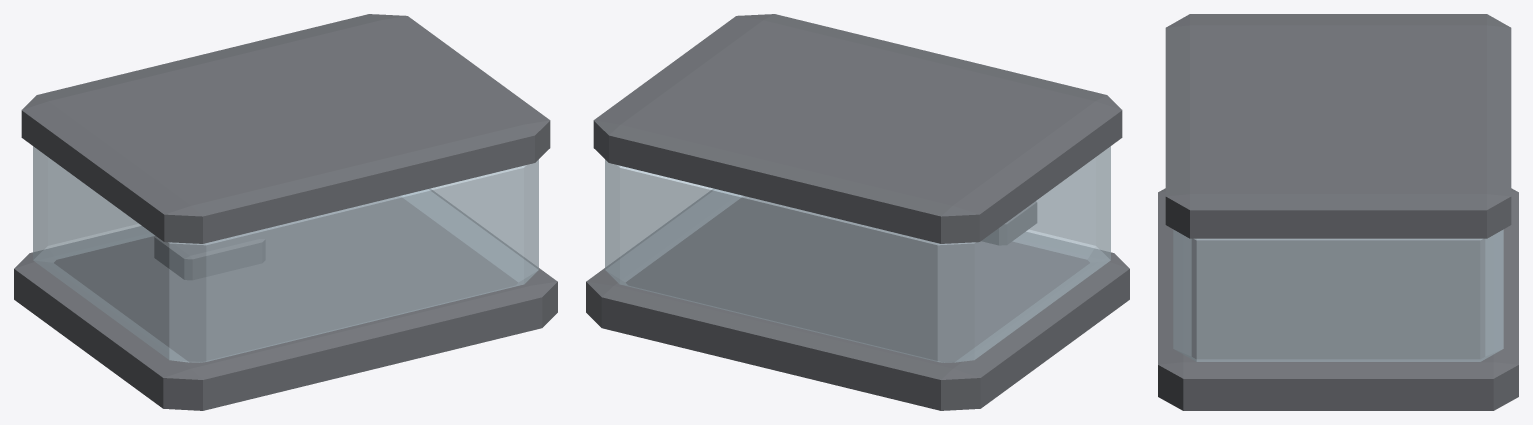
The model's file is b11_glazed_garden_cold_frame.glb.
The picture shows the model from 3 angles, left to right: view 1: azimuth 30°, elevation 25°; view 2: azimuth 150°, elevation 25°; view 3: azimuth 270°, elevation 25°; orthographic projection. The views are drawn at different scales.
Parts seen in each view (by area): view 1: b11_glazed_garden_cold_frame; view 2: b11_glazed_garden_cold_frame; view 3: b11_glazed_garden_cold_frame.
Boxes of the visible parts, bbox=[...] form: b11_glazed_garden_cold_frame: bbox=[14, 14, 557, 410]; b11_glazed_garden_cold_frame: bbox=[586, 14, 1129, 410]; b11_glazed_garden_cold_frame: bbox=[1158, 14, 1518, 410].
Size of the model in its own units: 1.33 by 0.63 by 1.01.
